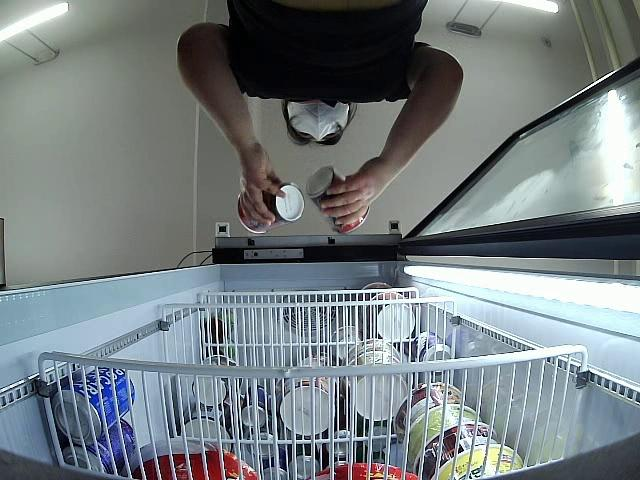00_hand: (321, 156, 387, 223), (239, 144, 286, 230)
02_shinRamen_S: (306, 169, 369, 234), (238, 182, 305, 234)
